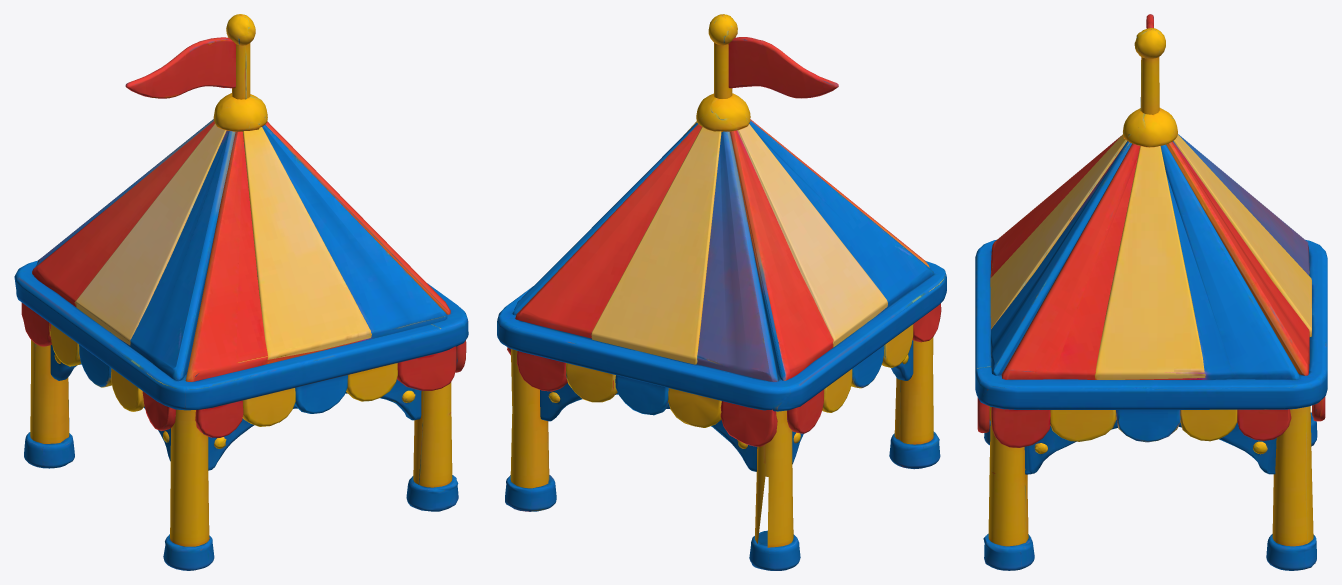
Rendered from tower_roof.glb.
The picture shows the model from 3 angles, left to right: view 1: azimuth 30°, elevation 25°; view 2: azimuth 150°, elevation 25°; view 3: azimuth 270°, elevation 25°; orthographic projection.
Size of what is drawn, in the model's own units: 0.6911 by 1 by 0.6778.
1 material, 1 textured.
